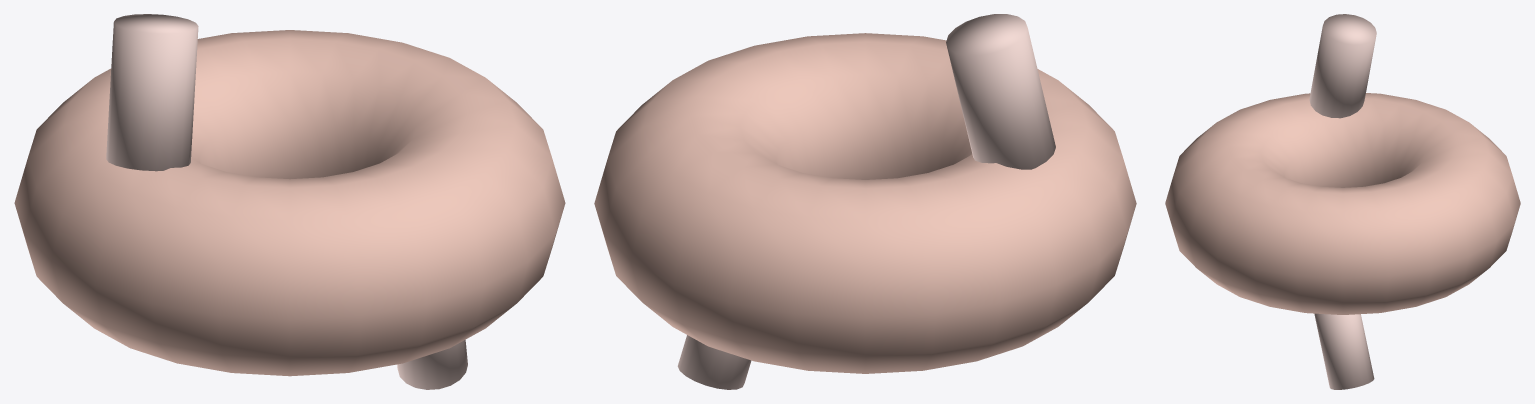
File: stomach.glb
3 renders of one model, left to right at view 1: azimuth 30°, elevation 25°; view 2: azimuth 150°, elevation 25°; view 3: azimuth 270°, elevation 25°, orthographic. The views are drawn at different scales.
Visible parts, largest first — view 1: body, esoph, pylorus; view 2: body, esoph, pylorus; view 3: body, esoph, pylorus.
Boxes of the visible parts, x1,y1,x2,y2 form: body: [14, 30, 565, 376]; esoph: [106, 14, 198, 171]; pylorus: [397, 340, 467, 389]; body: [594, 33, 1136, 373]; esoph: [946, 14, 1055, 169]; pylorus: [677, 335, 751, 389]; body: [1165, 93, 1520, 314]; esoph: [1309, 14, 1376, 118]; pylorus: [1314, 313, 1374, 389].
Bounding box in the file's own units: 1.56 × 1.34 × 1.56.
